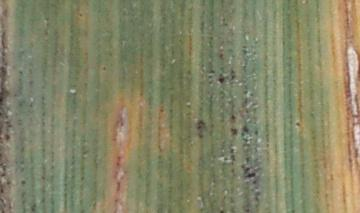tarspot: (195, 118, 205, 140), (239, 121, 250, 137), (228, 147, 237, 164), (217, 73, 226, 87), (244, 172, 257, 180), (229, 126, 237, 138), (294, 120, 302, 129), (101, 63, 107, 73), (230, 113, 237, 121), (77, 11, 83, 19), (252, 129, 258, 137), (217, 209, 226, 213)
